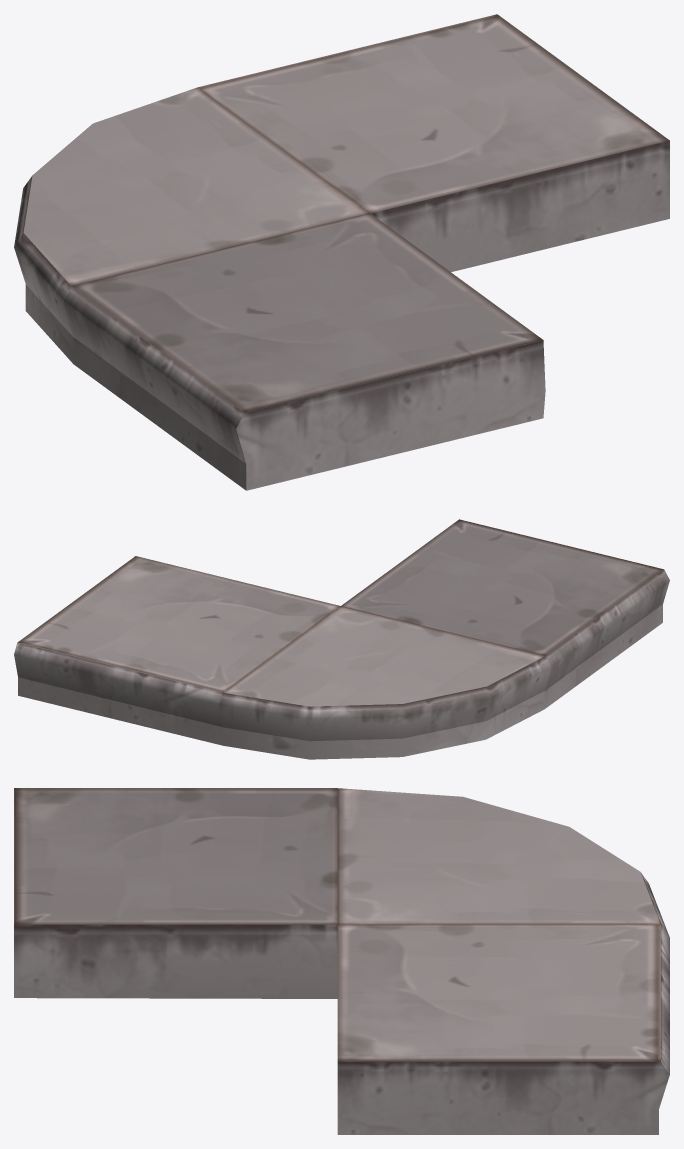
The model's file is sm_calcada_02.fbx.
3 renders of one model, top to bottom at view 1: azimuth 30°, elevation 25°; view 2: azimuth 150°, elevation 25°; view 3: azimuth 270°, elevation 25°, orthographic. The views are drawn at different scales.
Visible parts, largest first — view 1: sm_calcada_02; view 2: sm_calcada_02; view 3: sm_calcada_02.
Boxes of the visible parts, x1,y1,x2,y2 form: sm_calcada_02: (14,14,669,490); sm_calcada_02: (14,519,669,759); sm_calcada_02: (14,788,669,1134).
Bounding box in the file's own units: 2.03 × 0.25 × 2.03.
